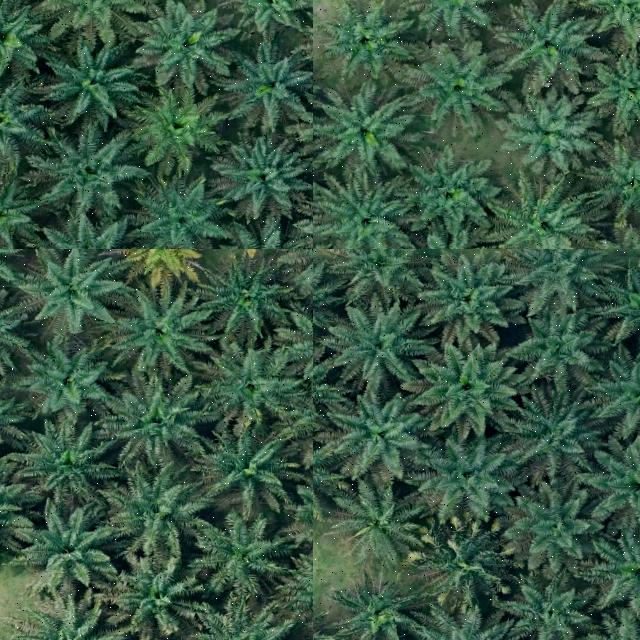Ganoderma: (131, 249, 193, 275)
